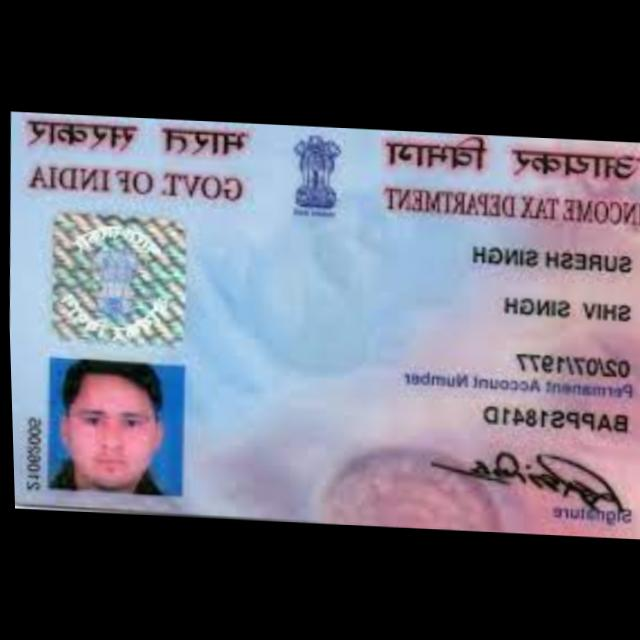pan: (3, 110, 640, 536)
